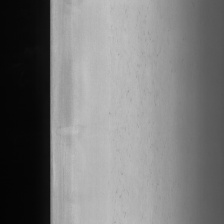silk_spot: (110, 0, 166, 178)
